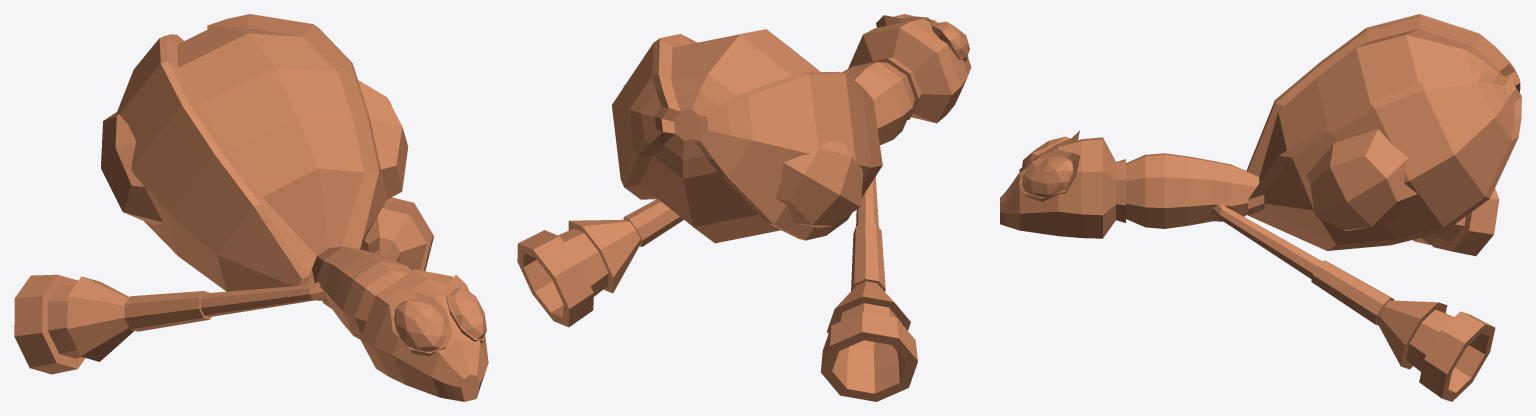
File: Mother_Ship.fbx
3 views of the same model, side by side, from view 1: azimuth 30°, elevation 25°; view 2: azimuth 150°, elevation 25°; view 3: azimuth 270°, elevation 25° (orthographic). The views are drawn at different scales.
Parts seen in each view (by area): view 1: Mother_Ship; view 2: Mother_Ship; view 3: Mother_Ship.
Part boxes in pixels (x1,y1,x2,y2): Mother_Ship: (14, 14, 488, 401); Mother_Ship: (517, 14, 971, 401); Mother_Ship: (1000, 14, 1521, 401).
Size of the model in its own units: 3764 by 2754 by 4457.
